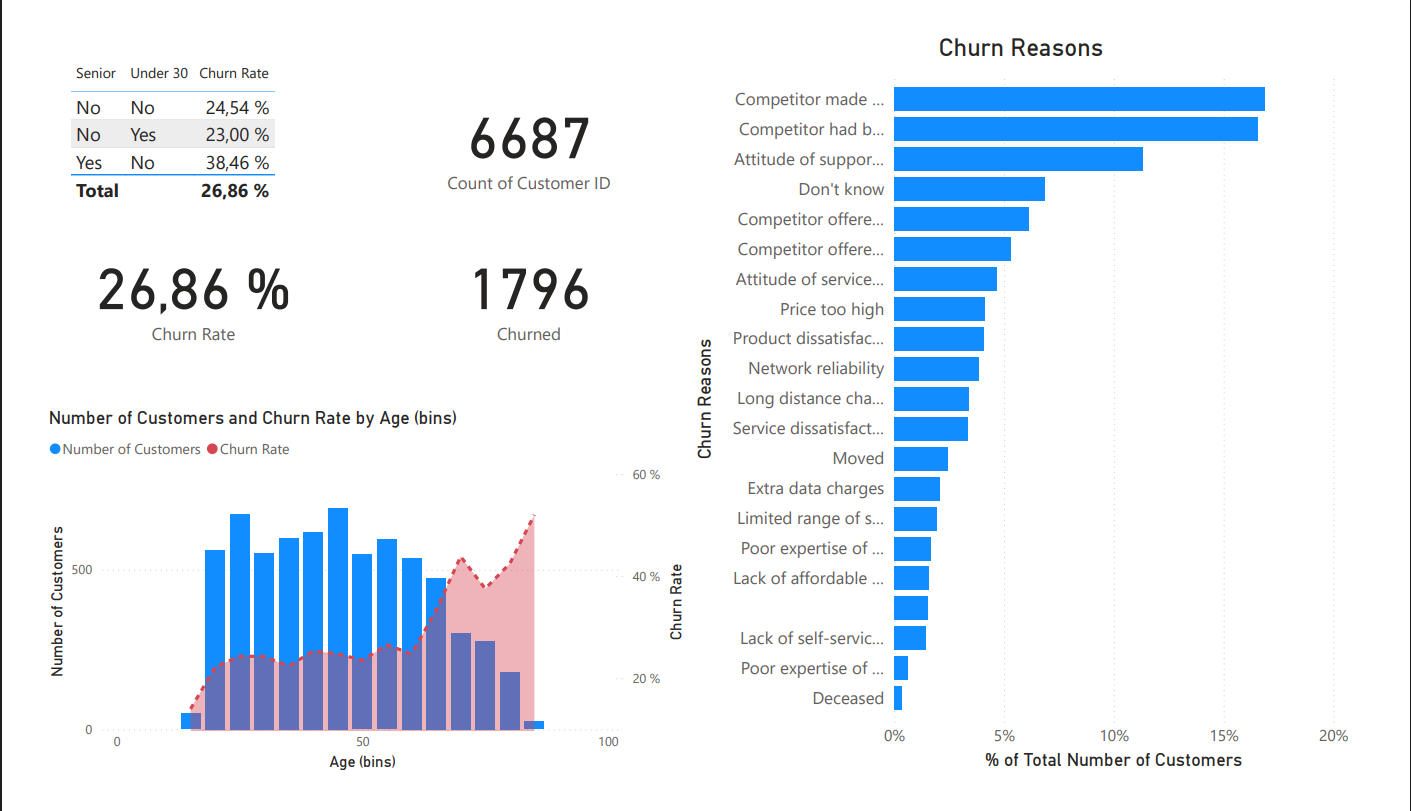

This screenshot's page, from the dashboard's own definition file:
{"tool":"powerbi","page":{"name":"Churn Demographics","canvas":[1280,720],"ordinal":1},"visuals":[{"type":"tableEx","fields":{"Values":["Databel - Data.Senior","Databel - Data.Under 30","Databel - Data.Churn Rate"]},"box":[35.2,30.8,280.1,161.3],"z":0},{"type":"clusteredBarChart","title":"Churn Reasons","fields":{"Category":["Databel - Data.Churn Reason"],"Y":["CountNonNull(Databel - Data.Number of Customers in Group)"]},"box":[623.2,10.3,626.2,696.5],"z":1000},{"type":"card","fields":{"Values":["Databel - Data.Churn Rate"]},"box":[51.3,192.1,211.2,123.2],"z":2000},{"type":"lineStackedColumnComboChart","fields":{"Category":["Databel - Data.Age (bins)"],"Y":["Databel - Data.Number of costumers"],"Y2":["Databel - Data.Churn Rate"]},"box":[14.7,360.7,608.6,346.1],"z":3000},{"type":"card","fields":{"Values":["Count(Databel - Data.Customer ID)"]},"box":[366.6,49.9,211.2,123.2],"z":4000},{"type":"card","fields":{"Values":["Sum(Databel - Data.Churned)"]},"box":[366.6,192.1,211.2,123.2],"z":5000}]}

Visuals, with their boxes in screenshot pixels (x1, y1, x2, y2), scaled from the page's 1280x720 canvas onto the 1411x811 screenshot:
tableEx - Databel - Data.Senior x Databel - Data.Under 30: bbox(39, 35, 348, 216)
"Churn Reasons" clusteredBarChart: bbox(687, 12, 1377, 796)
card - Databel - Data.Churn Rate: bbox(57, 216, 289, 355)
lineStackedColumnComboChart - Databel - Data.Age (bins) x Databel - Data.Number of costumers: bbox(16, 406, 687, 796)
card - Count(Databel - Data.Customer ID): bbox(404, 56, 637, 195)
card - Sum(Databel - Data.Churned): bbox(404, 216, 637, 355)
